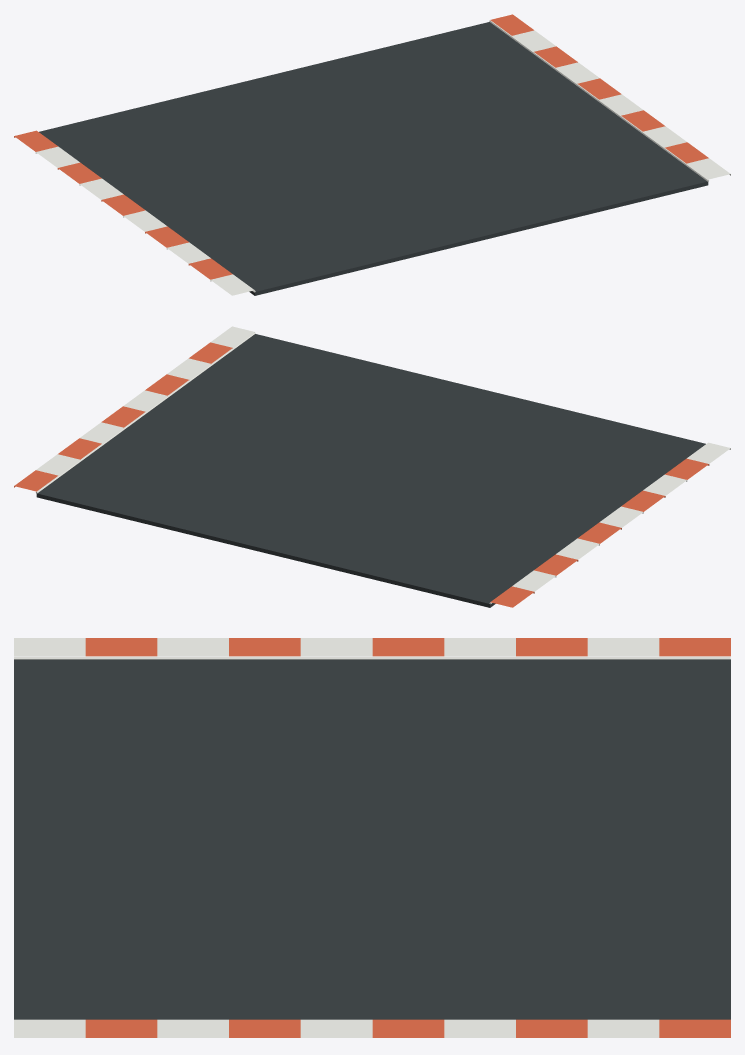
File: grand-prix-circuit-and-open-wheel-straight-10m-c75ddfba__15183.glb
The picture shows the model from 3 angles, top to bottom: view 1: azimuth 30°, elevation 25°; view 2: azimuth 150°, elevation 25°; view 3: azimuth 270°, elevation 25°; orthographic projection. The views are drawn at different scales.
Visible parts, largest first — view 1: straight-10m; view 2: straight-10m; view 3: straight-10m.
Part boxes in pixels (box(x1,y1,x2,y2)): straight-10m: box(14, 14, 730, 295); straight-10m: box(14, 326, 730, 607); straight-10m: box(14, 638, 730, 1037).
Size of the model in its own units: 13.2 by 0.1449 by 10.
